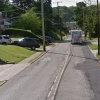Bus: (66, 27, 84, 51)
